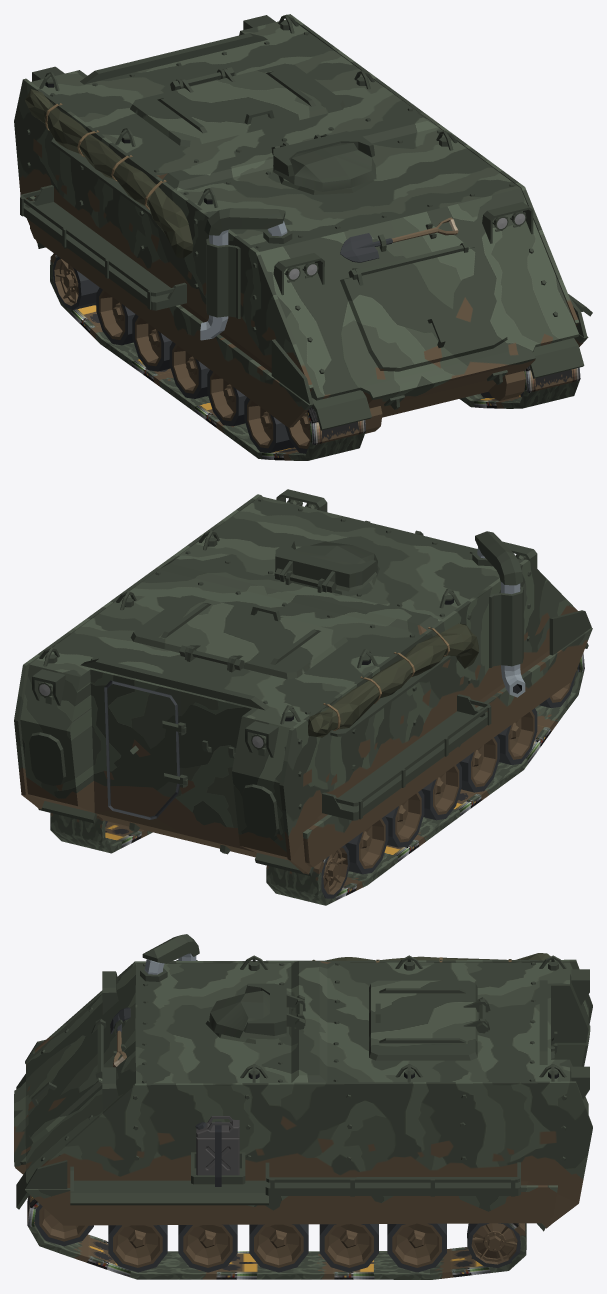
File: SM_Veh_APC_01.fbx
The picture shows the model from 3 angles, top to bottom: view 1: azimuth 30°, elevation 25°; view 2: azimuth 150°, elevation 25°; view 3: azimuth 270°, elevation 25°; orthographic projection. The views are drawn at different scales.
Parts seen in each view (by area): view 1: SM_Veh_APC_01, SM_Veh_APC_01_Track_R, SM_Veh_APC_01_Hatch, SM_Veh_APC_01_Track_L; view 2: SM_Veh_APC_01, SM_Veh_APC_01_Track_R, SM_Veh_APC_01_Hatch, SM_Veh_APC_01_Track_L; view 3: SM_Veh_APC_01, SM_Veh_APC_01_Track_L, SM_Veh_APC_01_Hatch.
Boxes of the visible parts, x1,y1,x2,y2 form: SM_Veh_APC_01: (14, 14, 592, 453); SM_Veh_APC_01_Track_R: (50, 253, 365, 460); SM_Veh_APC_01_Hatch: (271, 131, 376, 191); SM_Veh_APC_01_Track_L: (459, 366, 580, 408); SM_Veh_APC_01: (14, 489, 592, 898); SM_Veh_APC_01_Track_R: (266, 652, 584, 905); SM_Veh_APC_01_Hatch: (274, 540, 377, 592); SM_Veh_APC_01_Track_L: (50, 813, 152, 853); SM_Veh_APC_01: (14, 934, 592, 1272); SM_Veh_APC_01_Track_L: (27, 1195, 526, 1279); SM_Veh_APC_01_Hatch: (209, 983, 304, 1039).
Bounding box in the file's own units: 334 × 223 × 526.
